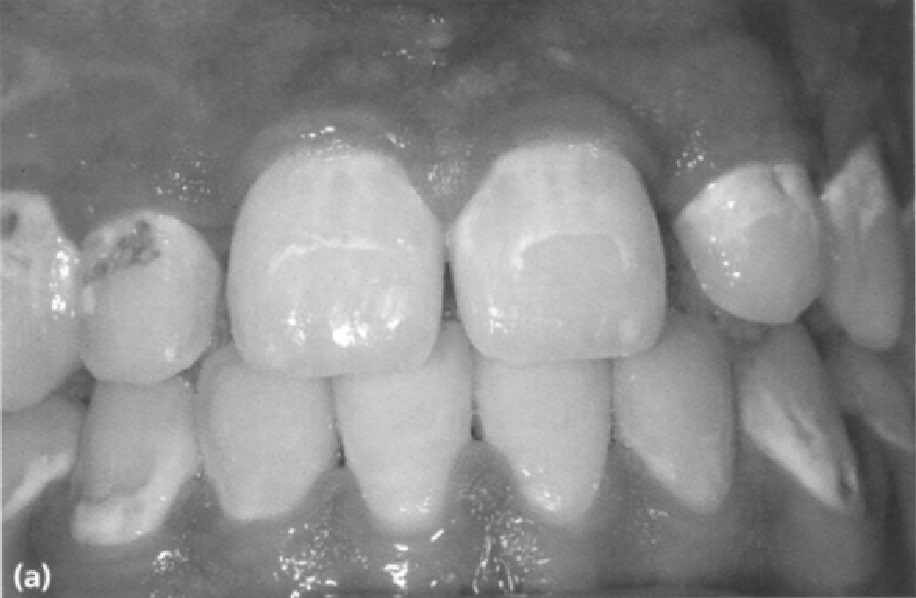karies: (770, 390, 867, 508), (63, 474, 193, 556), (825, 131, 891, 227), (77, 217, 163, 284), (740, 146, 812, 212), (1, 190, 46, 262)
